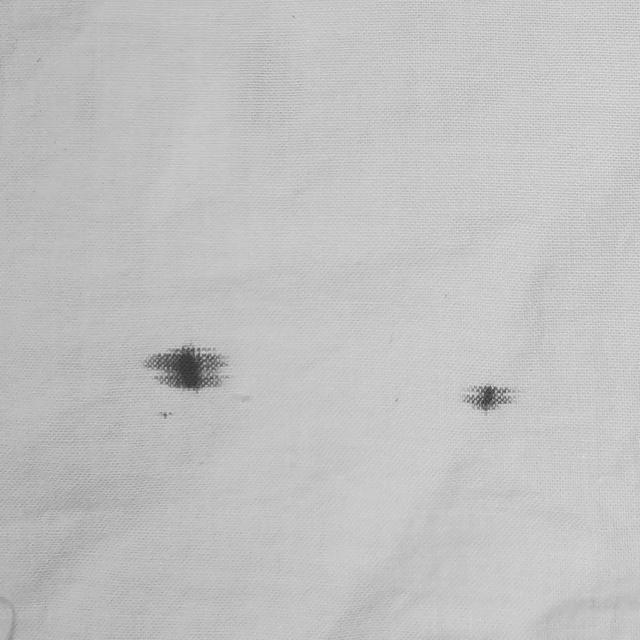Stain: (144, 344, 227, 390), (465, 384, 516, 412)
